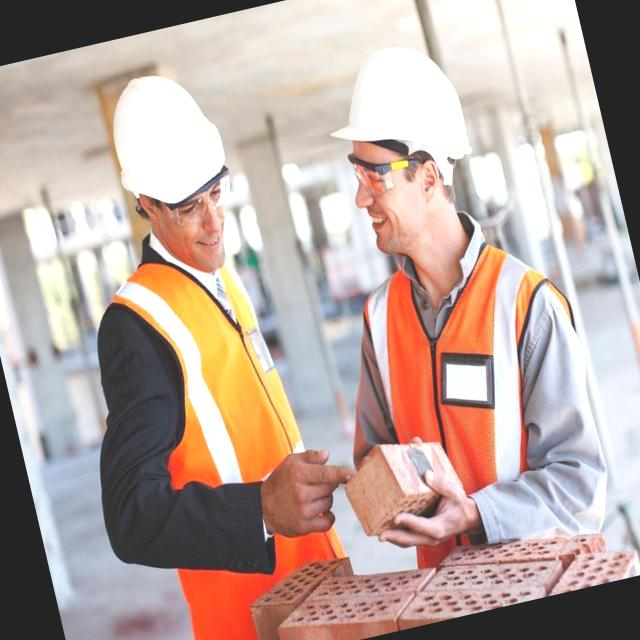helmet: (90, 62, 248, 228), (314, 35, 482, 186)
vest: (104, 239, 347, 640), (347, 224, 613, 582)
